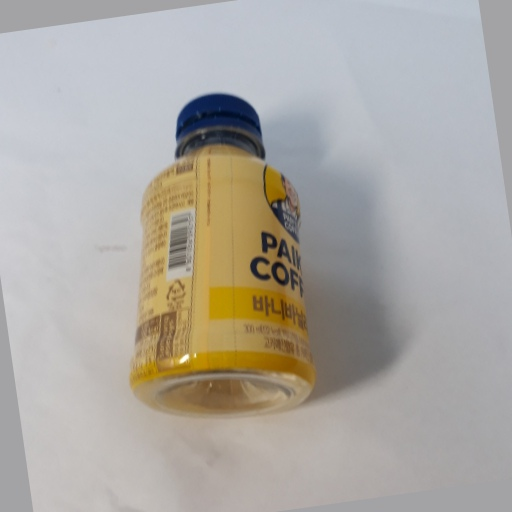Plastic_0: (125, 92, 319, 419)
